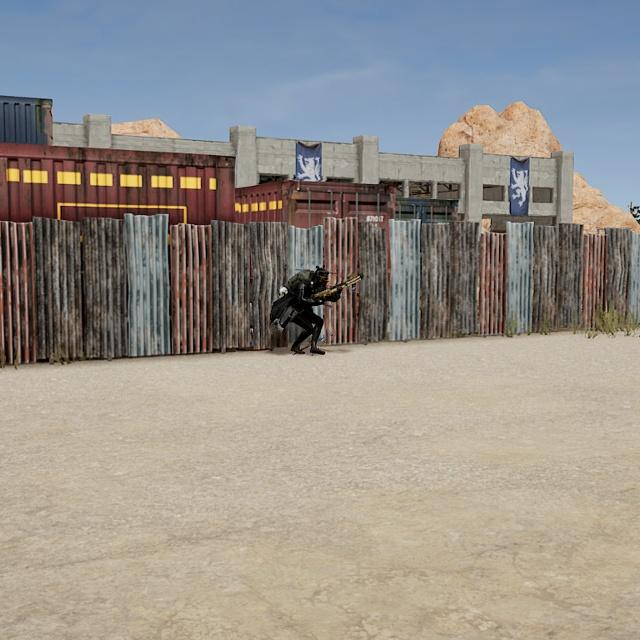head: (302, 261, 336, 292)
people: (264, 252, 355, 358)
